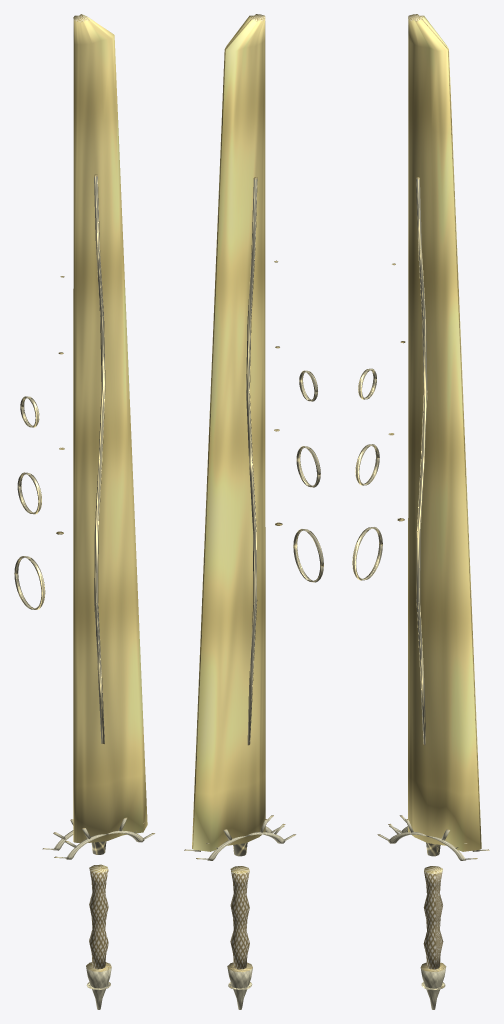
File: sword_13_empyrean_halo.glb
The picture shows the model from 3 angles, left to right: view 1: azimuth 30°, elevation 25°; view 2: azimuth 210°, elevation 25°; view 3: azimuth 330°, elevation 25°; orthographic projection.
Visible parts, largest first — view 1: Blade_EmpyreanHalo, Inlay_EmpyreanLicht, Grip_EmpyreanSilk, Halo_EmpyreanRings, Guard_IncorruptCrown, Pommel_HaloOrb; view 2: Blade_EmpyreanHalo, Inlay_EmpyreanLicht, Grip_EmpyreanSilk, Halo_EmpyreanRings, Pommel_HaloOrb, Guard_IncorruptCrown; view 3: Blade_EmpyreanHalo, Inlay_EmpyreanLicht, Grip_EmpyreanSilk, Halo_EmpyreanRings, Pommel_HaloOrb, Guard_IncorruptCrown.
Boxes of the visible parts, box(x1,y1,x2,y2) form: Blade_EmpyreanHalo: box(73, 14, 147, 842); Inlay_EmpyreanLicht: box(94, 174, 105, 743); Grip_EmpyreanSilk: box(89, 864, 108, 969); Halo_EmpyreanRings: box(14, 396, 45, 609); Guard_IncorruptCrown: box(42, 817, 154, 859); Pommel_HaloOrb: box(86, 962, 111, 1009); Blade_EmpyreanHalo: box(192, 14, 265, 851); Inlay_EmpyreanLicht: box(246, 177, 257, 745); Grip_EmpyreanSilk: box(230, 866, 249, 969); Halo_EmpyreanRings: box(293, 370, 323, 582); Pommel_HaloOrb: box(227, 962, 252, 1009); Guard_IncorruptCrown: box(184, 815, 295, 860); Blade_EmpyreanHalo: box(408, 14, 481, 851); Inlay_EmpyreanLicht: box(416, 177, 427, 745); Grip_EmpyreanSilk: box(423, 866, 443, 969); Halo_EmpyreanRings: box(352, 368, 382, 580); Pommel_HaloOrb: box(420, 962, 446, 1009); Guard_IncorruptCrown: box(377, 815, 489, 860).
Size of the model in its own units: 0.3292 by 2.6 by 0.1382.
Materials: 1 (1 with a texture image).
